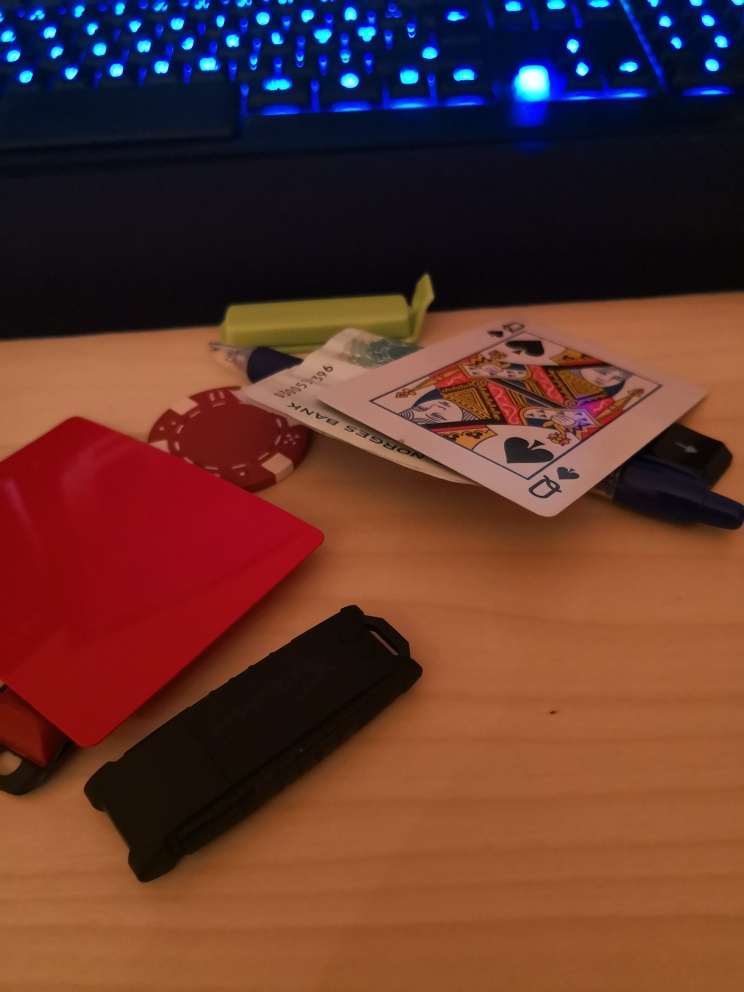queen: (317, 315, 709, 519)
